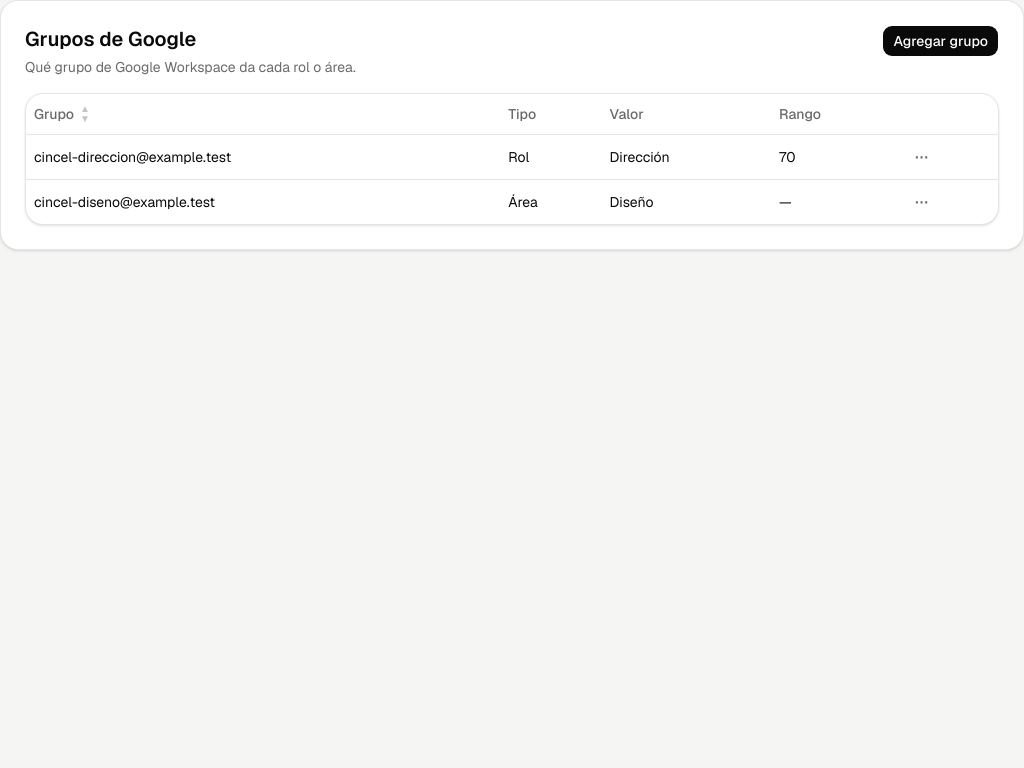
GoogleGroupMappings › cancelling the dialog deletes nothing
Click the button named "Acciones" at (922, 156), box [908,142,936,170]
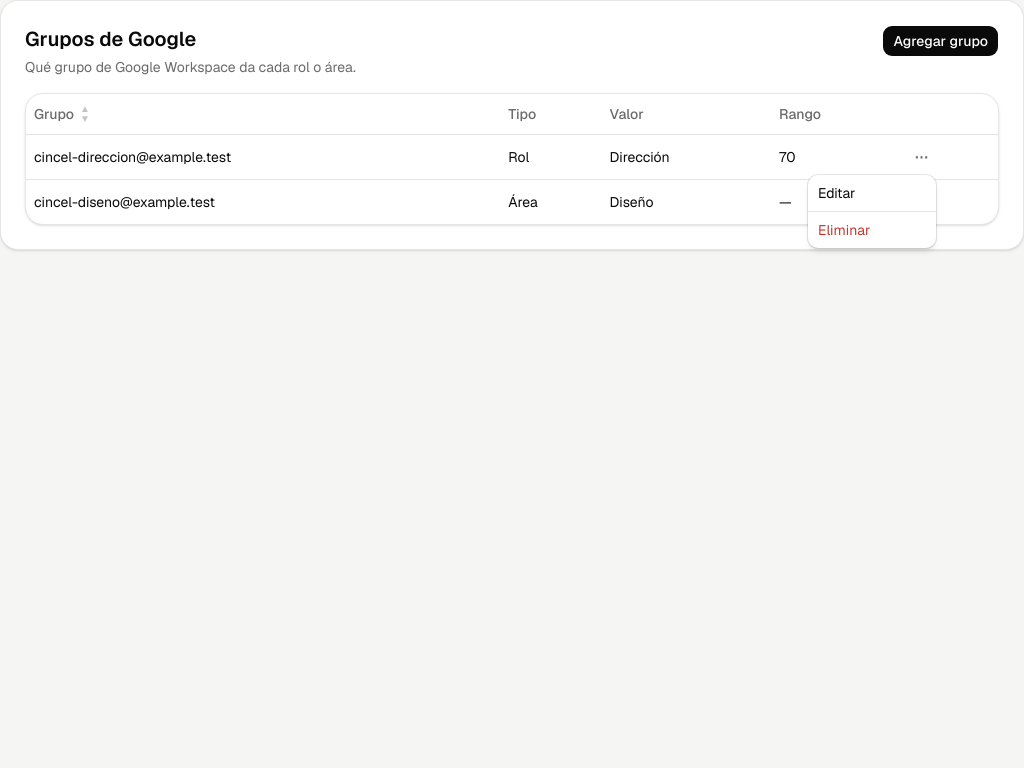
Click the menu item "Eliminar" at (844, 230), box [818,221,870,239]
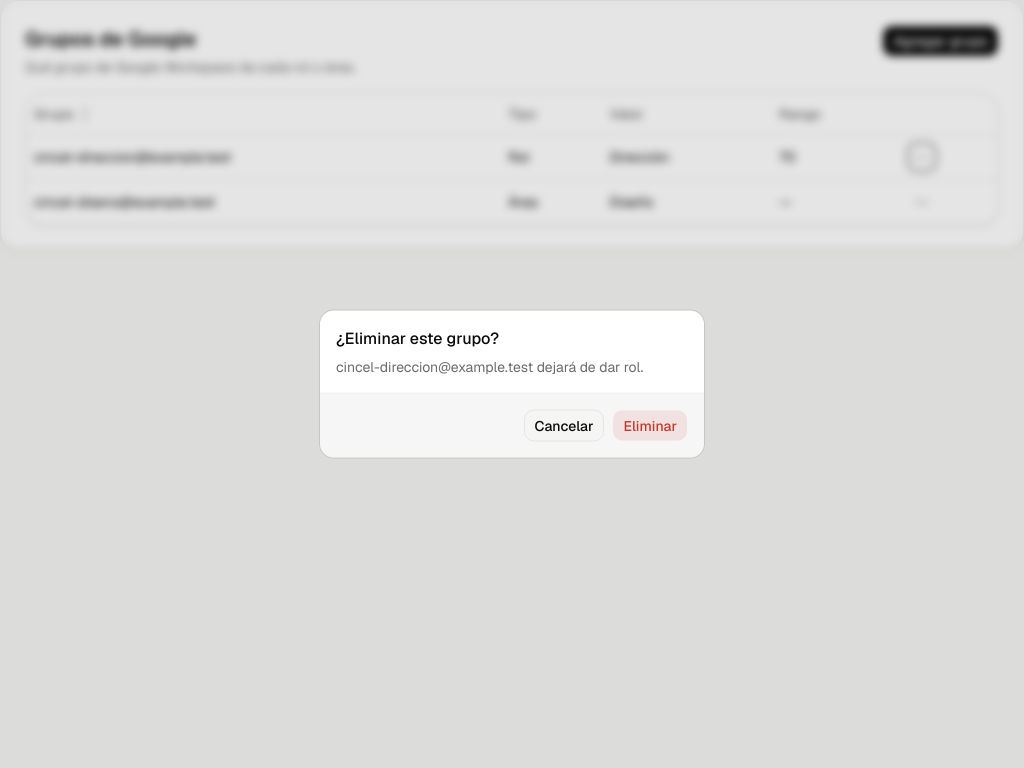
Click the button "Cancelar" at (564, 426), box [524,410,604,442]
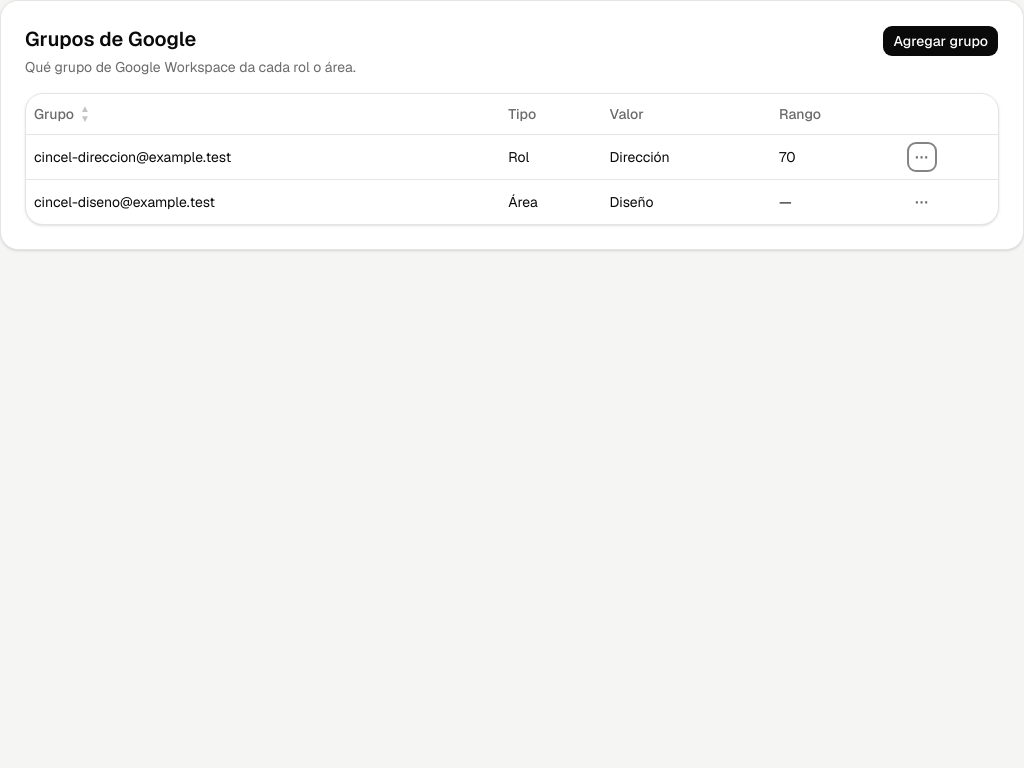
Expected: the heading "¿Eliminar este grupo?" is gone
